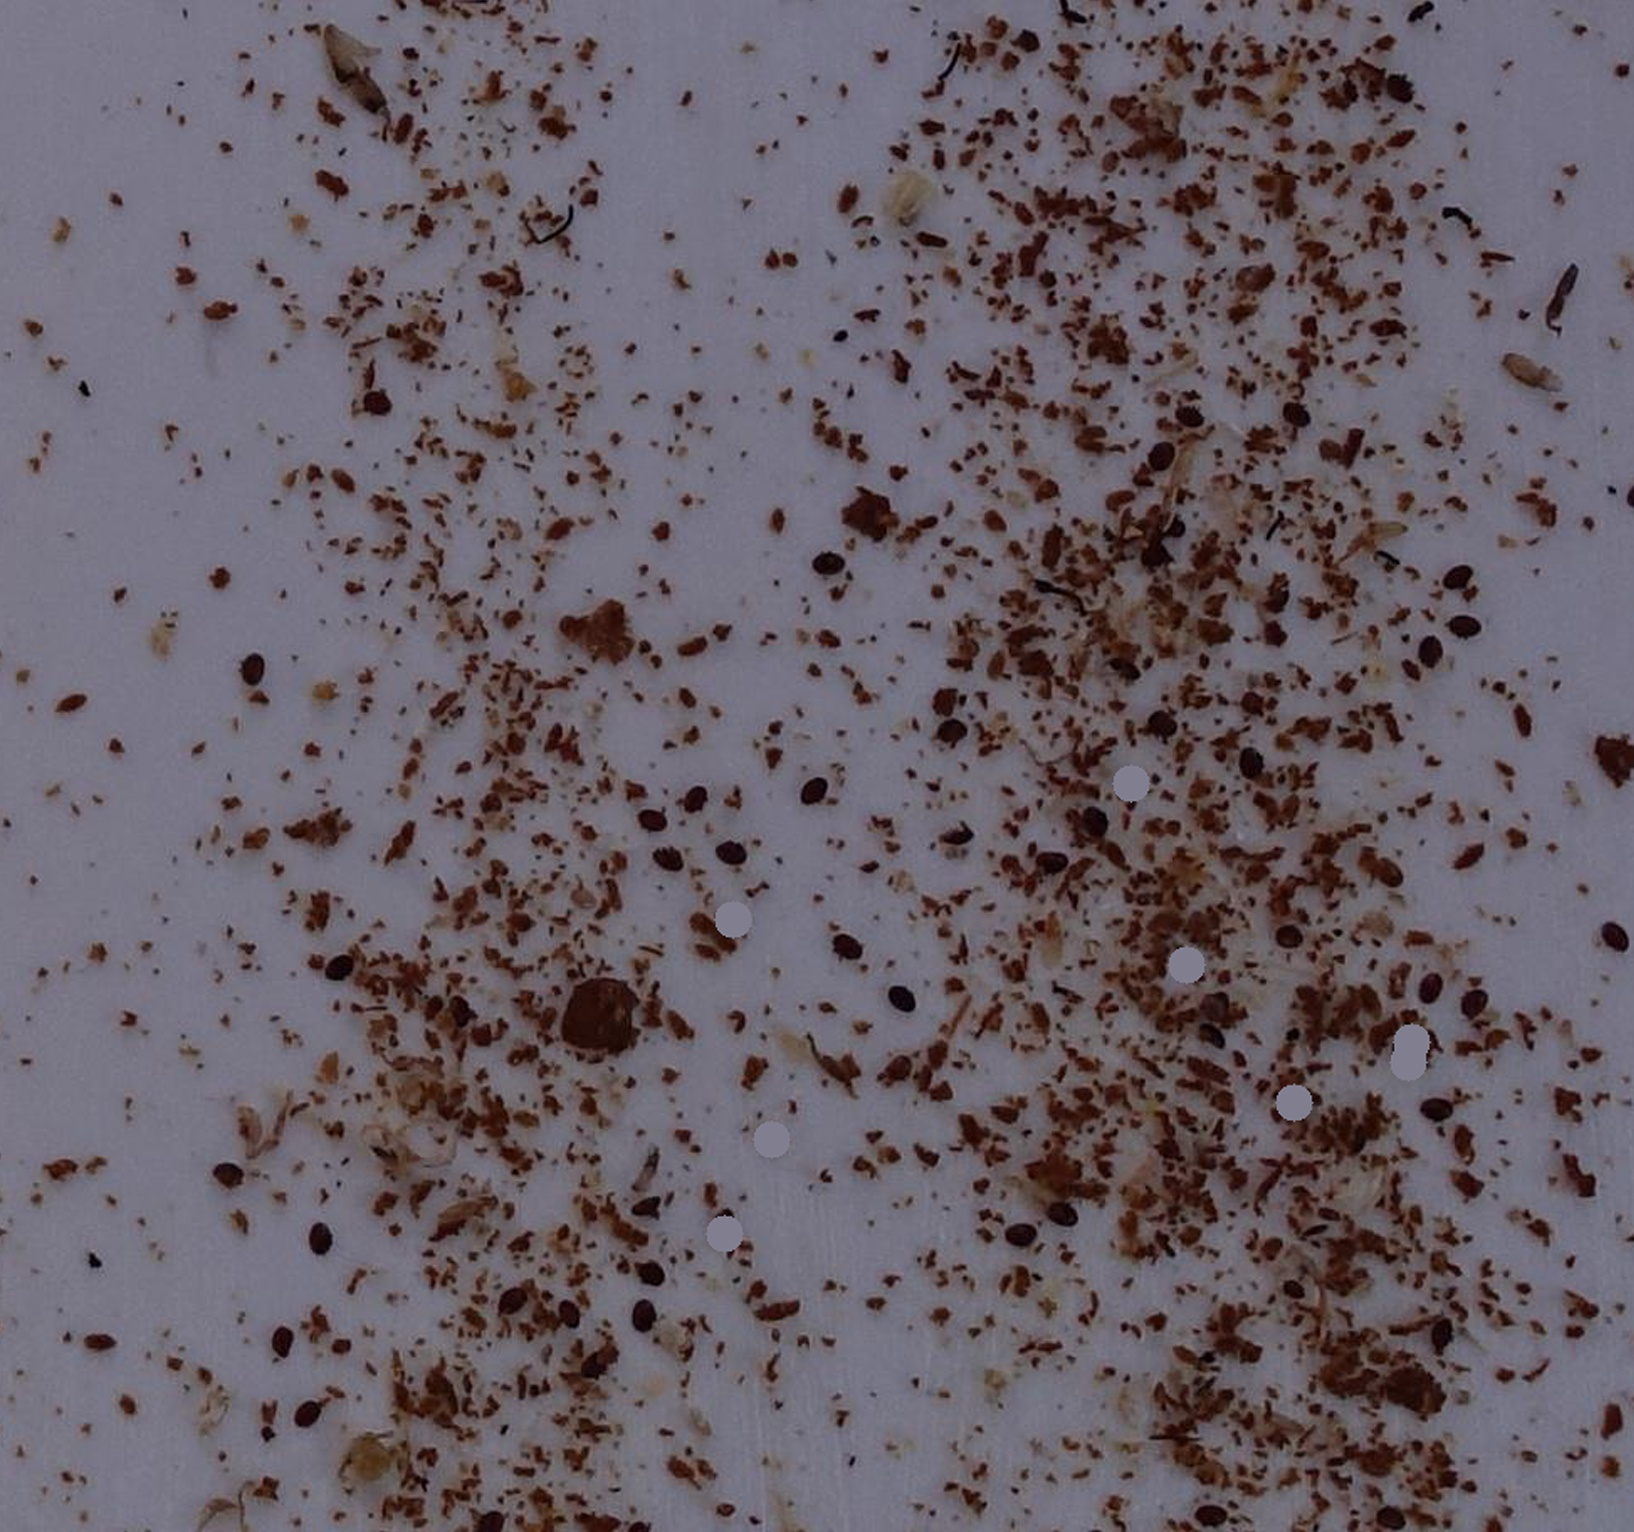Varroa: (626, 1248, 672, 1293), (1421, 1315, 1457, 1351), (1382, 75, 1417, 111), (441, 993, 477, 1027), (1595, 917, 1630, 950), (1106, 657, 1139, 690), (1142, 707, 1173, 740), (1081, 802, 1114, 834), (322, 946, 354, 978), (235, 649, 266, 680), (554, 1294, 583, 1325), (649, 848, 680, 877), (1448, 610, 1479, 639), (1414, 632, 1443, 662), (1235, 747, 1264, 776), (1008, 1212, 1035, 1241), (1198, 1021, 1225, 1050), (1146, 441, 1173, 469), (883, 1054, 910, 1081), (1375, 1503, 1402, 1531), (1044, 847, 1071, 874), (1458, 986, 1486, 1014), (839, 934, 867, 960), (1427, 1087, 1453, 1114), (266, 1328, 294, 1353), (937, 718, 965, 744), (811, 549, 836, 574), (305, 1227, 331, 1253), (803, 769, 829, 795), (361, 390, 387, 416), (1443, 564, 1468, 590), (1274, 922, 1300, 947), (890, 981, 916, 1006), (1417, 975, 1443, 1001), (1196, 1502, 1221, 1529), (717, 837, 741, 862), (629, 1307, 654, 1333), (1179, 405, 1204, 431), (1052, 1199, 1077, 1224), (505, 1280, 528, 1306), (1373, 862, 1396, 888), (641, 805, 664, 829), (682, 788, 705, 812), (294, 1402, 317, 1425), (710, 1204, 733, 1225), (1286, 396, 1307, 418)
